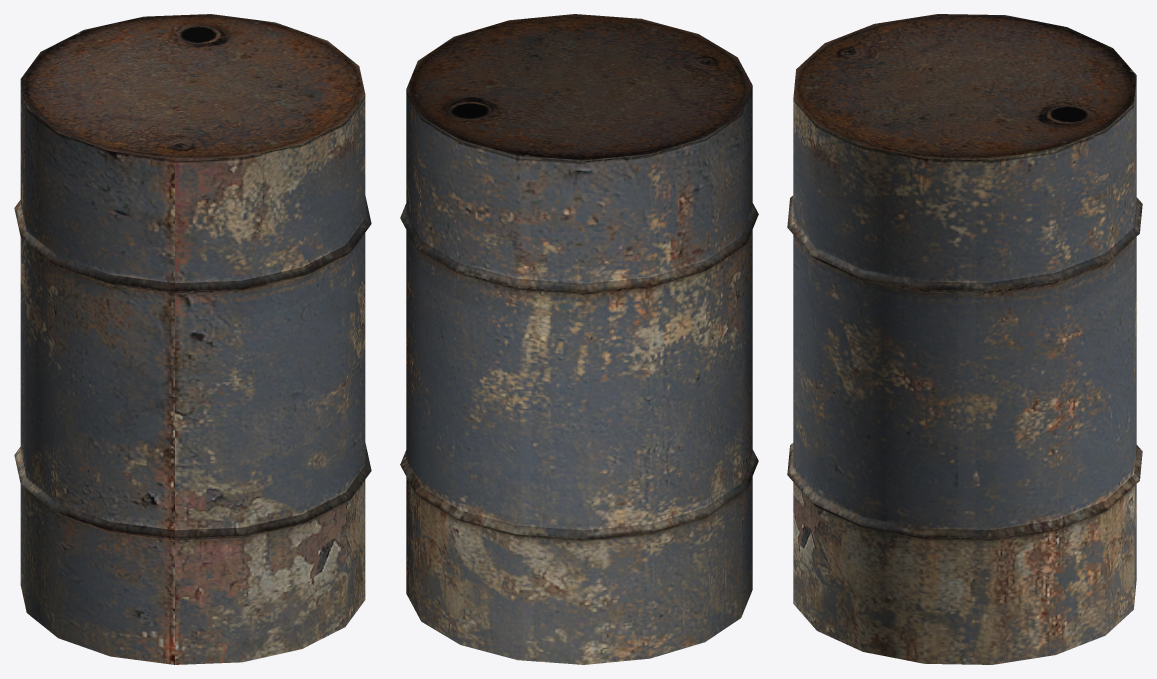
The model's file is blue_barrel.fbx.
3 views of the same model, side by side, from view 1: azimuth 30°, elevation 25°; view 2: azimuth 150°, elevation 25°; view 3: azimuth 270°, elevation 25° (orthographic).
Parts seen in each view (by area): view 1: blue_barrel.001; view 2: blue_barrel.001; view 3: blue_barrel.001.
Boxes of the visible parts, bbox=[...] form: blue_barrel.001: bbox=[14, 14, 371, 664]; blue_barrel.001: bbox=[400, 14, 758, 664]; blue_barrel.001: bbox=[787, 14, 1142, 664].
Bounding box in the file's own units: 0.7303 × 1.15 × 0.7303.
Materials: 1 (1 with a texture image).
